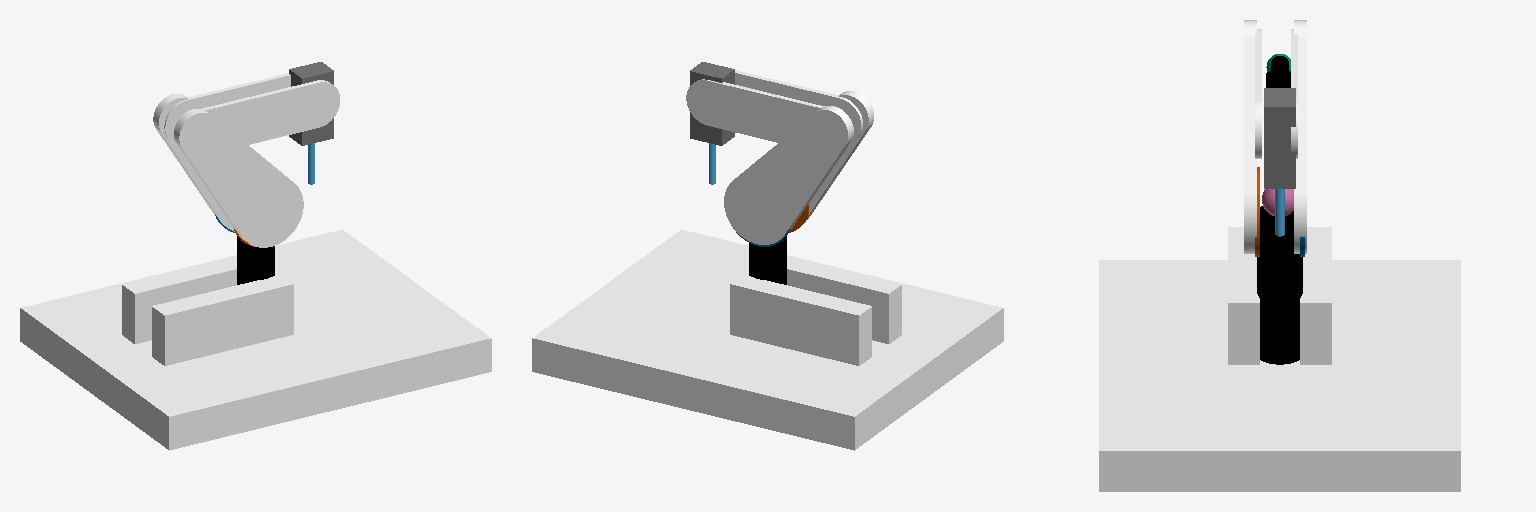
The robot description file, URDF, robot "rhino":
<?xml version="1.0"?>
<robot xmlns:xacro="http://www.ros.org/wiki/xacro" name="rhino">

    <material name="blue">
        <color rgba="0 0 0.8 1"/>
    </material>
    <material name="black">
        <color rgba="0 0 0 1"/>
    </material>
    <material name="white">
        <color rgba="1 1 1 1"/>
    </material>
    <material name="grey">
        <color rgba="0.5 0.5 0.5 1.0"/>
    </material>

    <link name="base_link">
        <visual>
            <geometry>
                <box size="1.0 0.8 0.1"/>
            </geometry>
            <material name="white"/>
        </visual>
    </link>

    <link name="cuadrado_1">
        <visual>
            <geometry>
                <!-- El tamaño del cuadrado, altura = 0.2 (mitad del largo del tronco) -->
                <box size="0.4 0.07 0.2"/>
            </geometry>
            <material name="white"/>
            <!-- Ajusta la posición según sea necesario -->
            <origin rpy="0 0 0" xyz="-0.15 0 0.1"/>
        </visual>
    </link>

    <joint name="base_cuadrado1" type="fixed">
        <parent link="base_link"/>
        <child link="cuadrado_1"/>
        <origin xyz="0 0.08 0"/>
    </joint>

    <link name="cuadrado_2">
        <visual>
            <geometry>
                <!-- El tamaño del cuadrado, altura = 0.2 (mitad del largo del tronco) -->
                <box size="0.4 0.07 0.2"/>
            </geometry>
            <material name="white"/>
            <!-- Ajusta la posición según sea necesario -->
            <origin rpy="0 0 0" xyz="-0.15 0 0.1"/>
        </visual>
    </link>

    <joint name="base_cuadrado2" type="fixed">
        <parent link="base_link"/>
        <child link="cuadrado_2"/>
        <origin xyz="0 -0.08 0"/>
    </joint>

    <!-- <link name="prueba">
        <visual>
            <origin rpy="0 0 0" xyz="0 0 0.19"/>
            <geometry>
                <mesh filename="package://rhino_description/meshes/prueba.stl" scale="0.001 0.001 0.001"/>
            </geometry>
            <material name="white"/>
        </visual>
    </link>

    <joint name="tronco_to_prueba" type="fixed">
        <parent link="tronco"/>
        <child link="prueba"/>
        <origin xyz="-0.2 -0.06 0" rpy="0 0 0"/>
    </joint>

    <link name="prueba1">
        <visual>
            <origin rpy="0 0 0" xyz="0 0 0.19"/>
            <geometry>
                <mesh filename="package://rhino_description/meshes/prueba.stl" scale="0.001 -0.001 0.001"/>
            </geometry>
            <material name="white"/>
        </visual>
    </link>

    <joint name="tronco_to_prueba1" type="fixed">
        <parent link="tronco"/>
        <child link="prueba1"/>
        <origin xyz="-0.2 0.06 0" rpy="0 0 0"/>
    </joint> -->

    <link name="tronco">
        <visual>
            <geometry>
                <cylinder radius="0.05" length="0.4"/>
            </geometry>
            <material name="black"/>
            <origin rpy="0 0 0" xyz="0 0 0.1"/>
        </visual>
    </link>

    <joint name="base_tronco" type="revolute">
        <parent link="base_link"/>
        <child link="tronco"/>
        <origin xyz="0 0 0.1"/>
        <!-- Eje Z para permitir la rotación -->
        <axis xyz="0 0 1"/>
        <limit effort="1000.0" velocity="0.5" lower="-3.14" upper="3.14"></limit> 
    </joint>

    <link name="tuerca_der">
        <visual>
            <geometry>
                <cylinder radius="0.1" length="0.01"/>
            </geometry>
            <origin rpy="1.57 1.57 0" xyz="0 0.05 0.3"/>
        </visual> 
    </link>

    <joint name="tronco_to_tuerca_der" type="fixed">
        <parent link="tronco"/>
        <child link="tuerca_der"/>
        <!-- Posición relativa a "tronco" -->
        <origin xyz="0 0 0"/>
    </joint>

    <link name="tuerca_izq">
        <visual>
            <geometry>
                <cylinder radius="0.1" length="0.01"/>
            </geometry>
            <origin rpy="-1.57 1.57 0" xyz="0 -0.05 0.3"/>
        </visual> 
    </link>

    <joint name="tronco_to_tuerca_izq" type="fixed">
        <parent link="tronco"/>
        <child link="tuerca_izq"/>
        <!-- Posición relativa a "tronco" -->
        <origin xyz="0 0 0"/>
    </joint>

    <link name="rueda_de_tronco">
        <visual>
            <geometry>
                <sphere radius="0.04"/>
            </geometry>
            <origin rpy="0 0 0" xyz="0 0 0"/>
        </visual>
    </link>

    <joint name="rueda_para_tronco" type="fixed">
        <parent link="tronco"/>
        <child link="rueda_de_tronco"/>
        <origin xyz="0 0 0.33"/>
    </joint>

    <link name="brazo">
        <visual>
            <geometry>
                <cylinder radius="0.03" length="0.3"/>
            </geometry>
            <material name="black"/>
            <origin rpy="0 -0.66 0" xyz="-0.10 0 0.10"/>
        </visual>
    </link>

    <joint name="hombro_brazo" type="revolute">
        <parent link="rueda_de_tronco"/>
        <child link="brazo"/>
        <origin xyz="0 0 0"/>
        <axis xyz="0 1 0"/> 
        <!-- Límite de rotación de -180 a 180 grados -->
        <limit effort="1000.0" velocity="0.5" lower="-0.9" upper="1.57"/>
    </joint>

    <link name="cubierta_brazo1">
        <visual>
            <origin rpy="0 -0.66 0" xyz="0 0 0.18"/>
            <geometry>
                <mesh filename="brazo.stl" scale="0.001 0.001 0.001"/>
                <!-- <mesh filename="package://rhino_description/meshes/brazo.stl" scale="0.001 0.001 0.001"/> -->
            </geometry>
            <material name="white"/>
        </visual>
    </link>

    <joint name="brazo_cubierto1" type="fixed">
        <parent link="brazo"/>
        <child link="cubierta_brazo1"/>
        <origin xyz=" 0 -0.05 -0.2" rpy="0 0 0"/>
    </joint>

    <link name="cubierta_brazo2">
        <visual>
            <origin rpy="0 -0.66 0" xyz="0 0 0.18"/>
            <geometry>
                <mesh filename="brazo.stl" scale="0.001 0.001 0.001"/>
                <!-- <mesh filename="package://rhino_description/meshes/brazo.stl" scale="0.001 0.001 0.001"/> -->
            </geometry>
            <material name="white"/>
        </visual>
    </link>

    <joint name="brazo_cubierto2" type="fixed">
        <parent link="brazo"/>
        <child link="cubierta_brazo2"/>
        <origin xyz=" 0 0.06 -0.2" rpy="0 0 0"/>
    </joint>

    <link name="codo">
        <visual>
            <geometry>
                <sphere radius="0.03"/>
            </geometry>
            <origin rpy="0 0 0" xyz="0 0 0"/>
        </visual>
    </link>

    <joint name="codo_de_brazo" type="fixed">
        <parent link="brazo"/>
        <child link="codo"/>
        <origin xyz="-0.2 0 0.23"/>
        <axis xyz="0 1 0"/>
    </joint>

    <link name="antebrazo">
        <visual>
            <geometry>
                <cylinder radius="0.02" length="0.3"/>
            </geometry>
            <material name="black"/>
            <origin rpy="0 1.5708 0" xyz="0.165 0 0.015"/>
        </visual>
    </link>

    <joint name="codo_antebrazo" type="revolute">
        <parent link="codo"/>
        <child link="antebrazo"/>
        <origin xyz="0 0 0"/>
        <axis xyz="0 1 0"/>
        <limit lower="-3.14" upper="3.14" effort="1000.0" velocity="0.5"/>
    </joint>

    <link name="cubierta_antebrazo1">
        <visual>
            <origin rpy="0 1.5708 0" xyz="0 0 0.22"/>
            <geometry>
                <mesh filename="antebrazo.stl" scale="0.001 0.001 0.001"/>
                <!-- <mesh filename="package://rhino_description/meshes/antebrazo.stl" scale="0.001 0.001 0.001"/> -->
            </geometry>
            <material name="white"/>
        </visual>
    </link>

    <joint name="antebrazo_cubierta1" type="fixed">
        <parent link="antebrazo"/>
        <child link="cubierta_antebrazo1"/>
        <origin xyz=" 0 -0.04 -0.2" rpy="0 0 0"/>
    </joint>

    <link name="cubierta_antebrazo2">
        <visual>
            <origin rpy="0 1.5708 0" xyz="0 0 0.22"/>
            <geometry>
                <mesh filename="antebrazo.stl" scale="0.001 0.001 0.001"/>
                <!-- <mesh filename="package://rhino_description/meshes/antebrazo.stl" scale="0.001 0.001 0.001"/> -->
            </geometry>
            <material name="white"/>
        </visual>
    </link>

    <joint name="antebrazo_cubierto2" type="fixed">
        <parent link="antebrazo"/>
        <child link="cubierta_antebrazo2"/>
        <origin xyz=" 0 0.04 -0.2" rpy="0 0 0"/>
    </joint>

    <link name="muneca_cil">
        <visual>
            <geometry>
                <sphere radius="0.03"/>
            </geometry>
            <origin rpy="0 0 0" xyz="0 0 0"/>
        </visual>
    </link>

    <joint name="antebrazo_muneca" type="fixed">
        <parent link="antebrazo"/>
        <child link="muneca_cil"/>
        <origin xyz="0.34 0 0.015"/>
        <axis xyz="0 1 0"/>
        <limit lower="-3.14" upper="3.14" effort="1000.0" velocity="0.5"/>
    </joint>  

    <link name="muneca">
        <visual>
            <geometry>
                <box size="0.1 0.07 0.2"/>
            </geometry>
            <origin rpy="0 0 0" xyz="0.033 0 -0.015"/>
            <material name="grey"/>
        </visual>
    </link>
    <joint name="muneca" type="revolute">
        <parent link="muneca_cil"/>
        <child link="muneca"/>
        <origin xyz="0 0 0"/>
        <axis xyz="0 1 0"/>
        <limit lower="-3.14" upper="3.14" effort="1000.0" velocity="0.5"/>
    </joint>

    <link name="engranaje_muneca">
        <visual>
            <geometry>
            <!-- <mesh filename="package://rhino_description/meshes/Engranaje.stl" scale="0.001 0.001 0.001"/> -->
            <mesh filename="Engranaje.stl" scale="0.002 0.002 0.001"/>
            </geometry>
            <origin rpy="0 0 0" xyz="-0.05 -0.058 -0.06"/>
            <material name="white"/>
        </visual>
    </link>

    <joint name="engranaje_giro" type="continuous">
        <parent link="muneca"/>
        <child link="engranaje_muneca"/>
        <origin xyz="0.033 0 -0.06"/>
        <axis xyz="0 0 1"/>
        <!-- <limit lower="-3.14" upper="3.14" effort="1000.0" velocity="0.5"/> -->
    </joint>

    <link name="mano">
        <visual>
            <geometry>
                <cylinder radius="0.01" length="0.2"/>
            </geometry>
            <origin rpy="0 0 0" xyz="0 0 0.14"/>
        </visual>
    </link>

    <joint name="muneca_mano" type="fixed">
        <parent link="engranaje_muneca"/>
        <child link="mano"/>
        <origin xyz="0 0 -0.23"/>
    </joint>

    <link name="left_gripper">
        <visual>
            <origin rpy="0 1.57 0" xyz="0 0 -0.2"/>
            <geometry>
                <mesh filename="l_finger.dae"/>
                <!-- <mesh filename="package://rhino_description/meshes/l_finger.dae"/> -->
            </geometry>
        </visual>
    </link>

    <joint name="gripper_izquierdo" type="revolute">
        <parent link="engranaje_muneca"/>
        <child link="left_gripper"/>
        <limit effort="1000.0" lower="-0.38" upper="0" velocity="0.5"/>
        <origin rpy="0 0 0" xyz="0 0.01 0"/>
        <axis xyz="-1.0 0.0 0.0"/>
    </joint>

    <link name="right_gripper">
        <visual>
            <origin rpy="3.14 1.57 0" xyz="0 0 -0.2"/>
            <geometry>
                <mesh filename="l_finger.dae"/>
                <!-- <mesh filename="package://rhino_description/meshes/l_finger.dae"/> -->
            </geometry>
        </visual>
    </link>

    <joint name="gripper_right" type="revolute">
        <parent link="engranaje_muneca"/>
        <child link="right_gripper"/>
        <limit effort="1000.0" lower="-0.38" upper="0" velocity="0.5"/>
        <origin rpy="0 0 0" xyz="0 -0.01 0"/>
        <axis xyz="10 0 0"/>
    </joint>

</robot>

--- Facts derived from the render (not from the file) ---
The picture shows the robot from 3 angles, left to right: view 1: azimuth 30°, elevation 25°; view 2: azimuth 150°, elevation 25°; view 3: azimuth 270°, elevation 25°; orthographic projection.
Model rhino with 20 links and 19 joints (6 revolute, 1 continuous, 12 fixed), rooted at base_link, posed every joint at zero.
Links seen in each view (by area): view 1: base_link, cubierta_brazo1, cuadrado_2, cubierta_antebrazo1, cuadrado_1, cubierta_antebrazo2, cubierta_brazo2, tronco, muneca; view 2: base_link, cubierta_brazo2, cuadrado_1, cubierta_antebrazo2, cuadrado_2, cubierta_antebrazo1, muneca, tronco, cubierta_brazo1; view 3: base_link, tronco, cuadrado_1, cuadrado_2, muneca, cubierta_brazo1, cubierta_brazo2, cubierta_antebrazo1, cubierta_antebrazo2, antebrazo.
Boxes of the visible links, x1,y1,x2,y2 form: base_link: (20, 229, 491, 450); cubierta_brazo1: (174, 109, 303, 247); cuadrado_2: (152, 275, 293, 365); cubierta_antebrazo1: (202, 80, 339, 144); cuadrado_1: (122, 256, 236, 343); cubierta_antebrazo2: (164, 73, 290, 145); cubierta_brazo2: (153, 94, 234, 231); tronco: (237, 236, 274, 284); muneca: (289, 62, 333, 145); base_link: (532, 229, 1003, 450); cubierta_brazo2: (724, 106, 853, 244); cuadrado_1: (730, 275, 871, 365); cubierta_antebrazo2: (686, 79, 824, 142); cuadrado_2: (787, 256, 901, 343); cubierta_antebrazo1: (735, 70, 862, 142); muneca: (690, 62, 734, 145); tronco: (749, 236, 786, 284); cubierta_brazo1: (807, 91, 873, 219); base_link: (1099, 260, 1460, 491); tronco: (1257, 206, 1302, 364); cuadrado_1: (1300, 227, 1331, 364); cuadrado_2: (1228, 227, 1259, 364); muneca: (1264, 88, 1295, 188); cubierta_brazo1: (1244, 20, 1256, 253); cubierta_brazo2: (1294, 20, 1306, 253); cubierta_antebrazo1: (1255, 29, 1261, 158); cubierta_antebrazo2: (1291, 29, 1297, 158); antebrazo: (1271, 56, 1288, 87).
Bounding box of the posed robot: 1 × 0.8 × 0.81 m (x, y, z).
4 mesh visuals loaded from 4 distinct referenced files (2 binary STL); not drawn: 3 (reference not matched to a file when rendering).